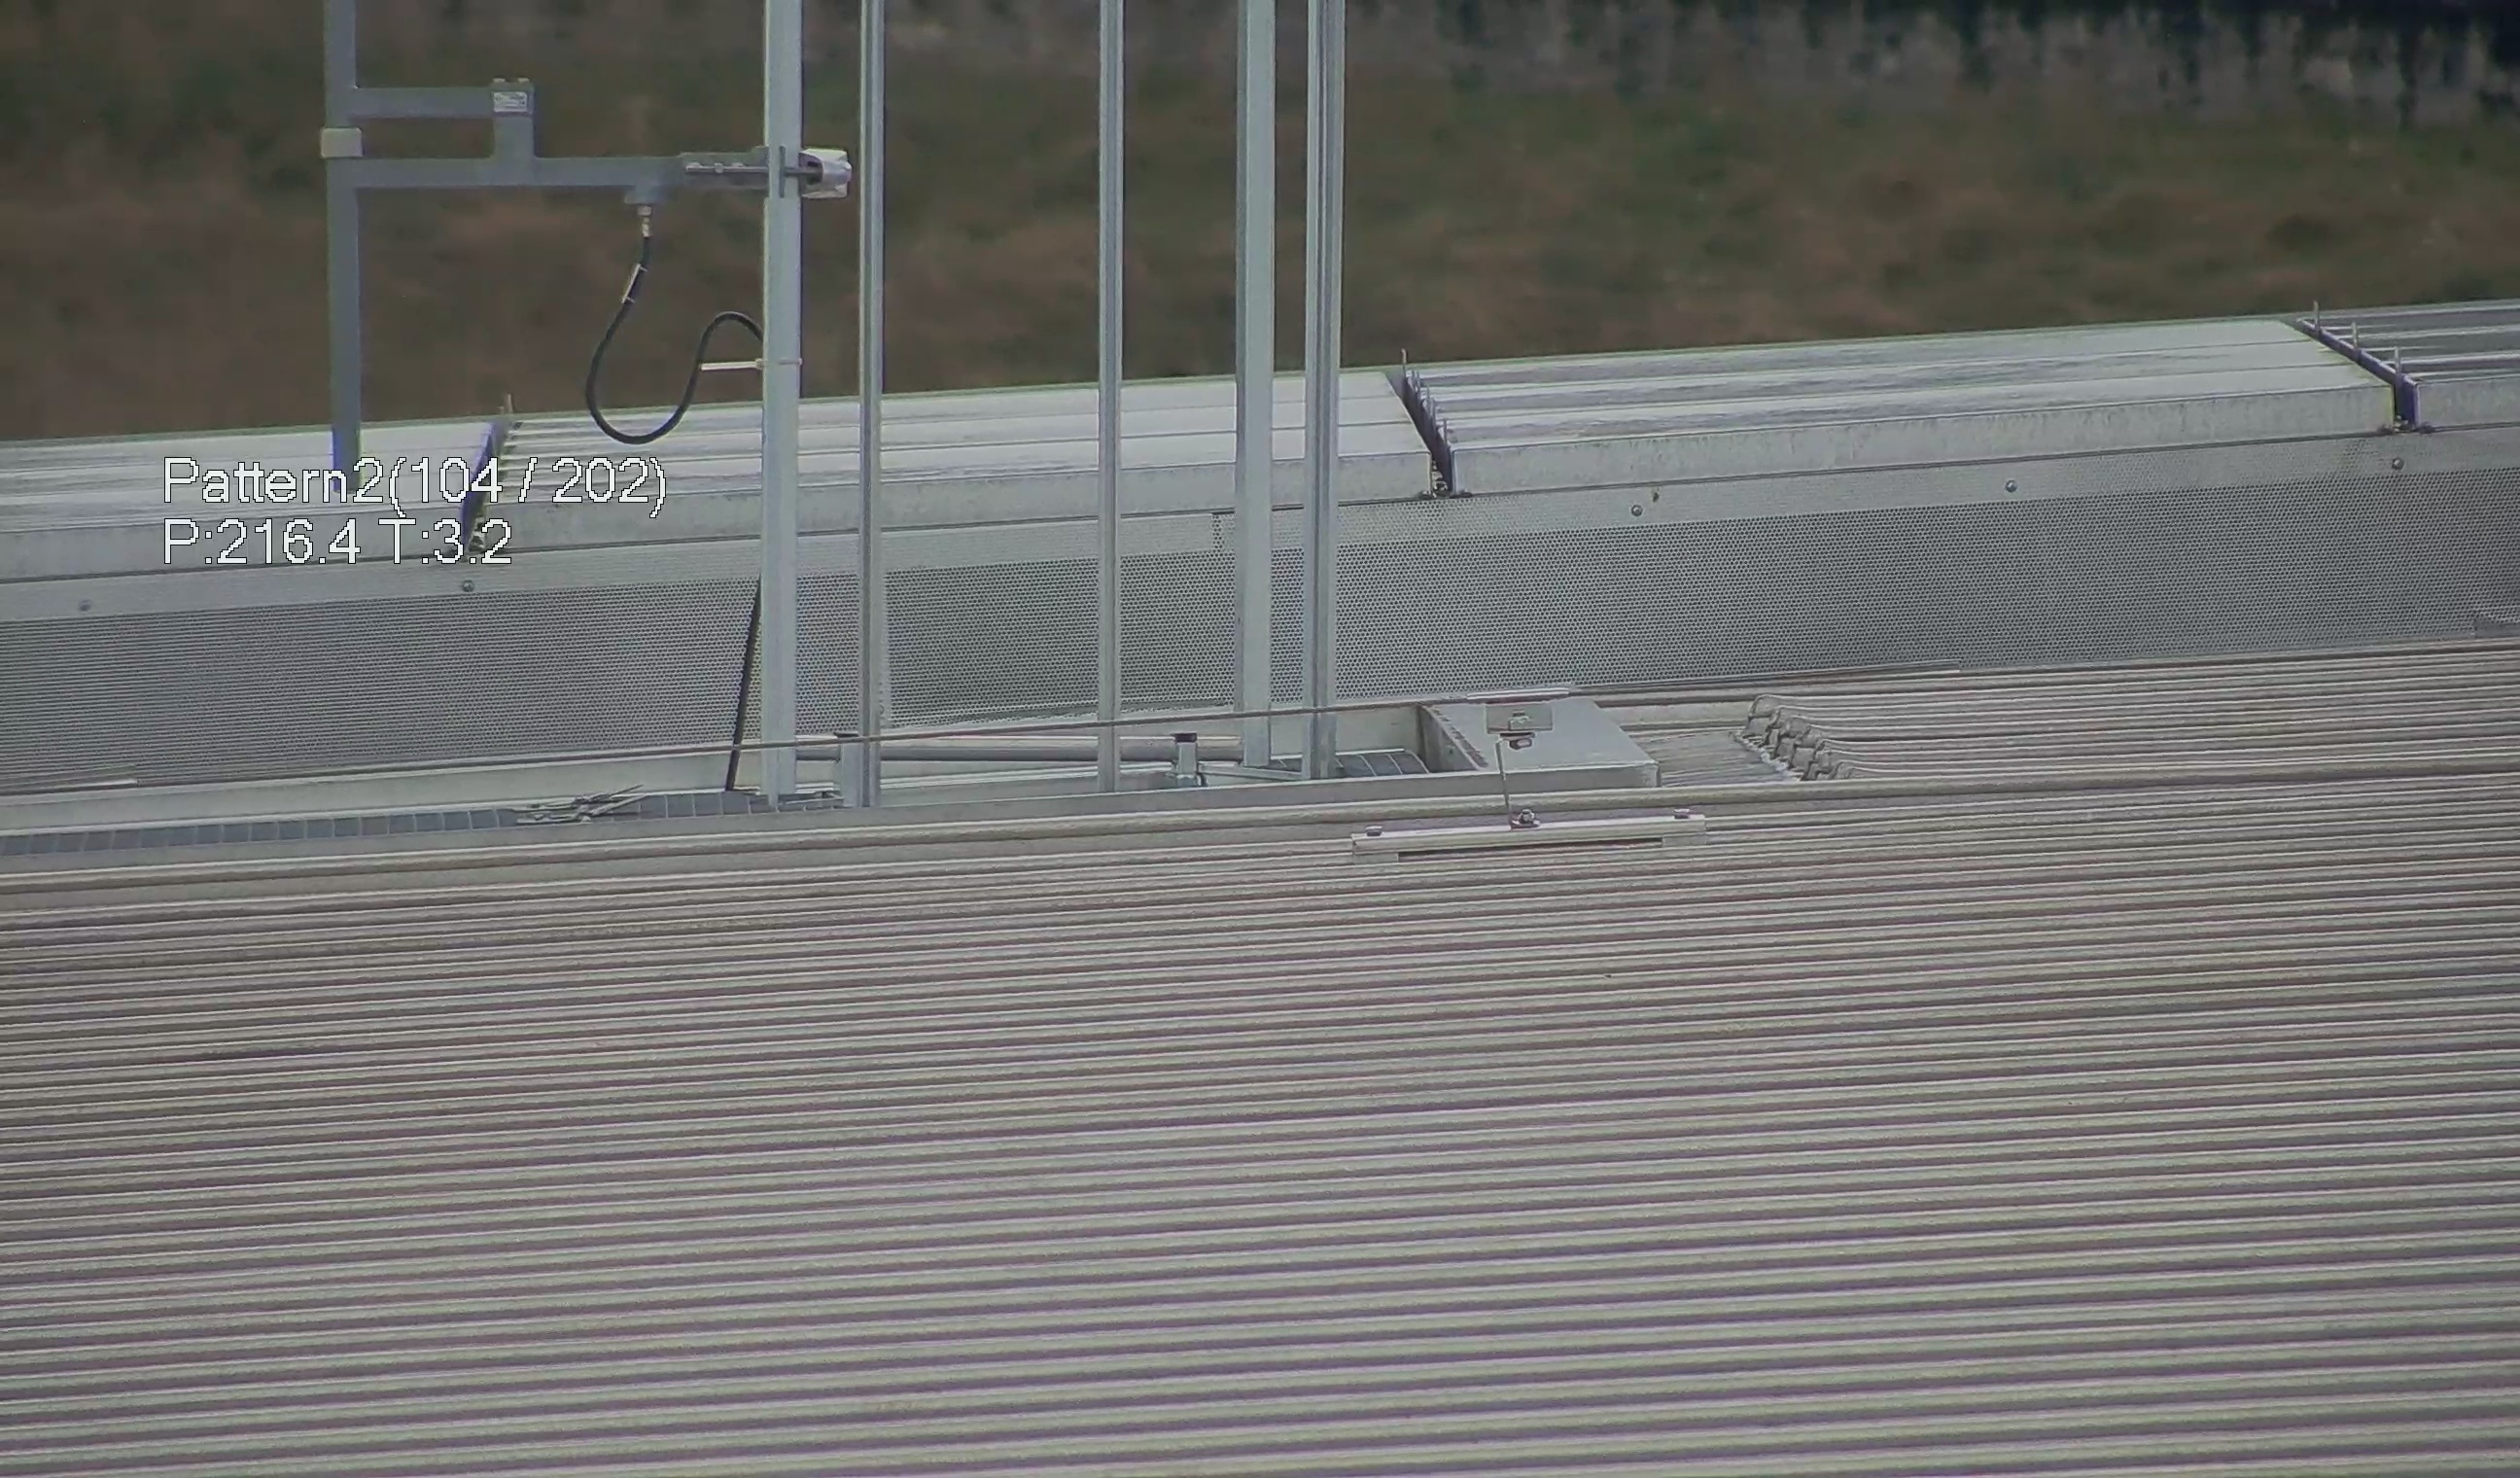Other: (1373, 343, 1472, 500)
